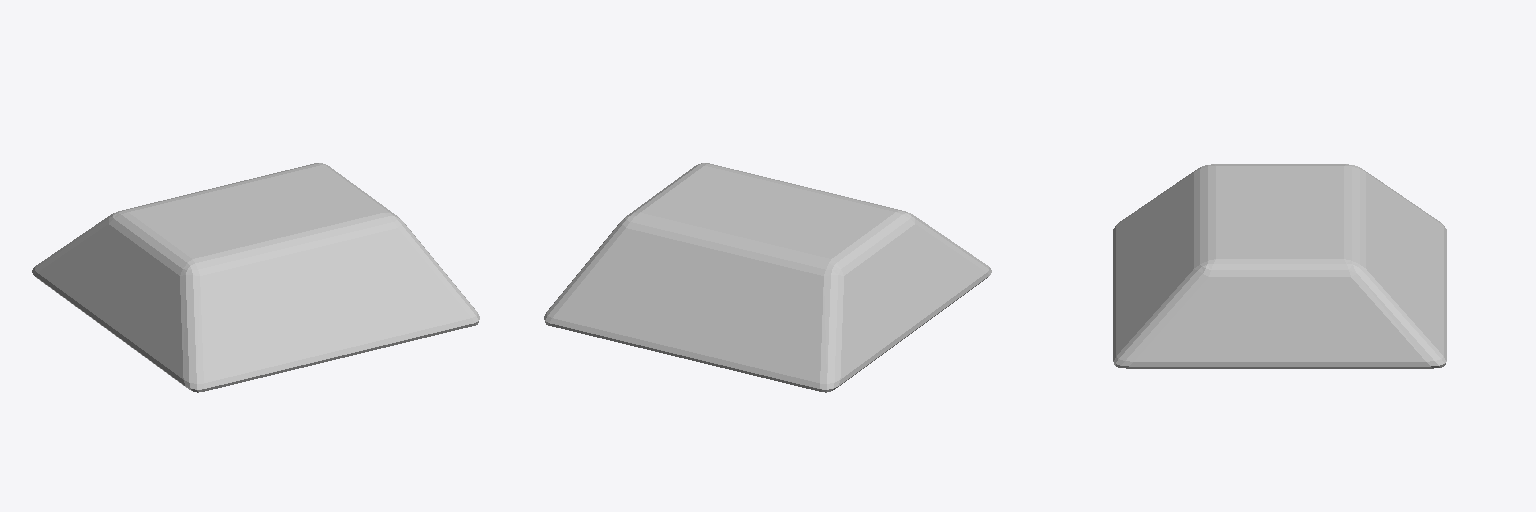
Rendered from brick.obj.
The picture shows the model from 3 angles: view 1: azimuth 30°, elevation 25°; view 2: azimuth 150°, elevation 25°; view 3: azimuth 270°, elevation 25°; orthographic projection.
Parts seen in each view (by area): view 1: Cube; view 2: Cube; view 3: Cube.
Part boxes in pixels (x1,y1,x2,y2): Cube: (32,163,479,392); Cube: (544,163,991,392); Cube: (1113,164,1446,368).
Size of the model in its own units: 1.76 by 0.5 by 1.73.